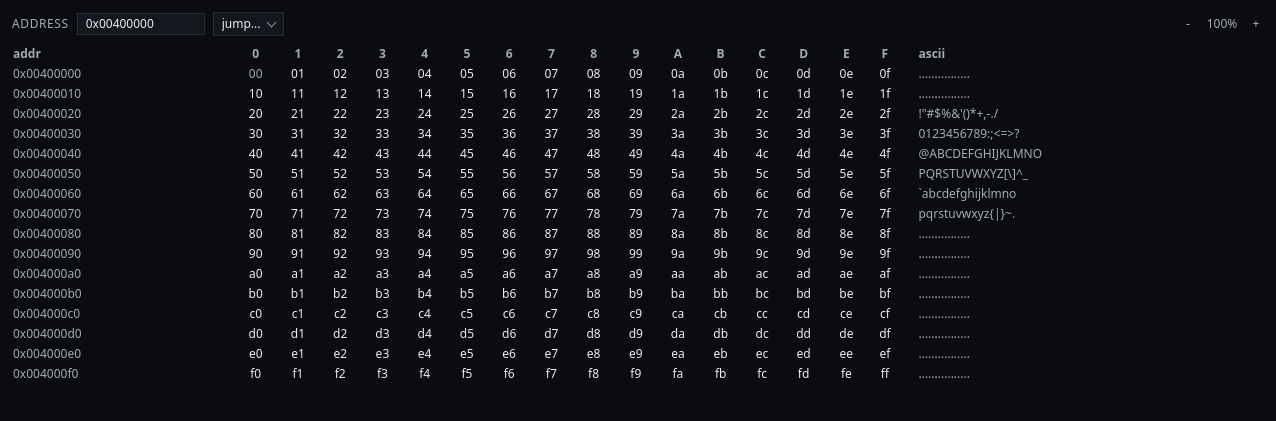
Test: MemoryPanel › does not truncate a hex address at a mistyped character
Replace the text in the field named "memory base address" with "0x00600000" at (141, 24), box [77, 13, 205, 35]
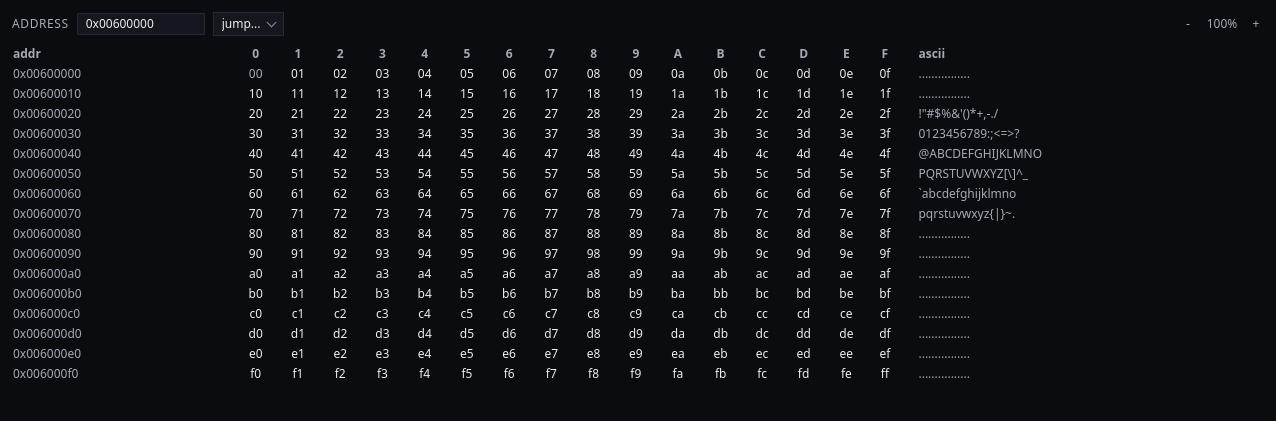
Replace the text in the field named "memory base address" with "0x0060O000" at (141, 24), box [77, 13, 205, 35]
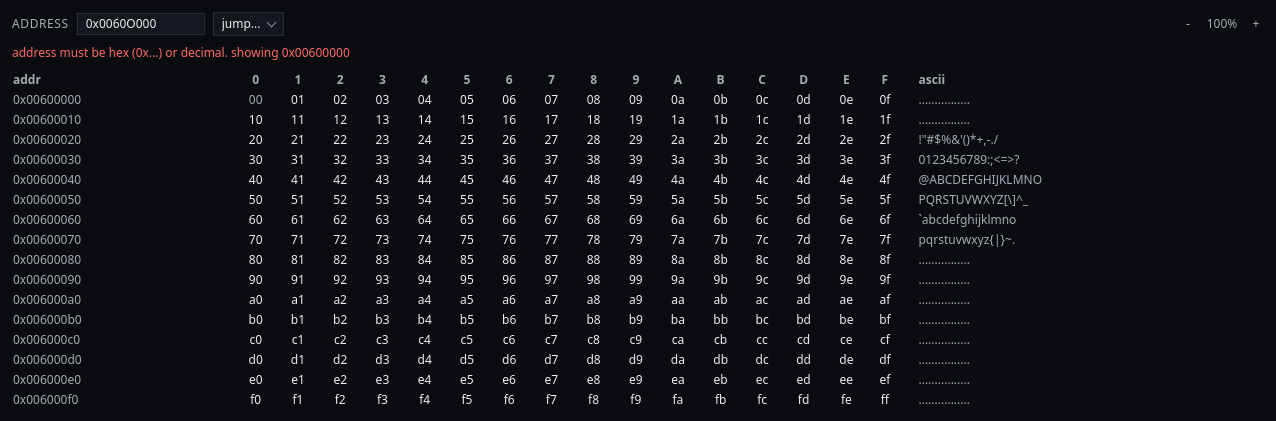
Now the text "0x00600000" is shown, box [12, 90, 235, 110]
Now the message "address must be hex (0x...) or decimal. showing 0x00600000" is shown, box [12, 44, 350, 61]
